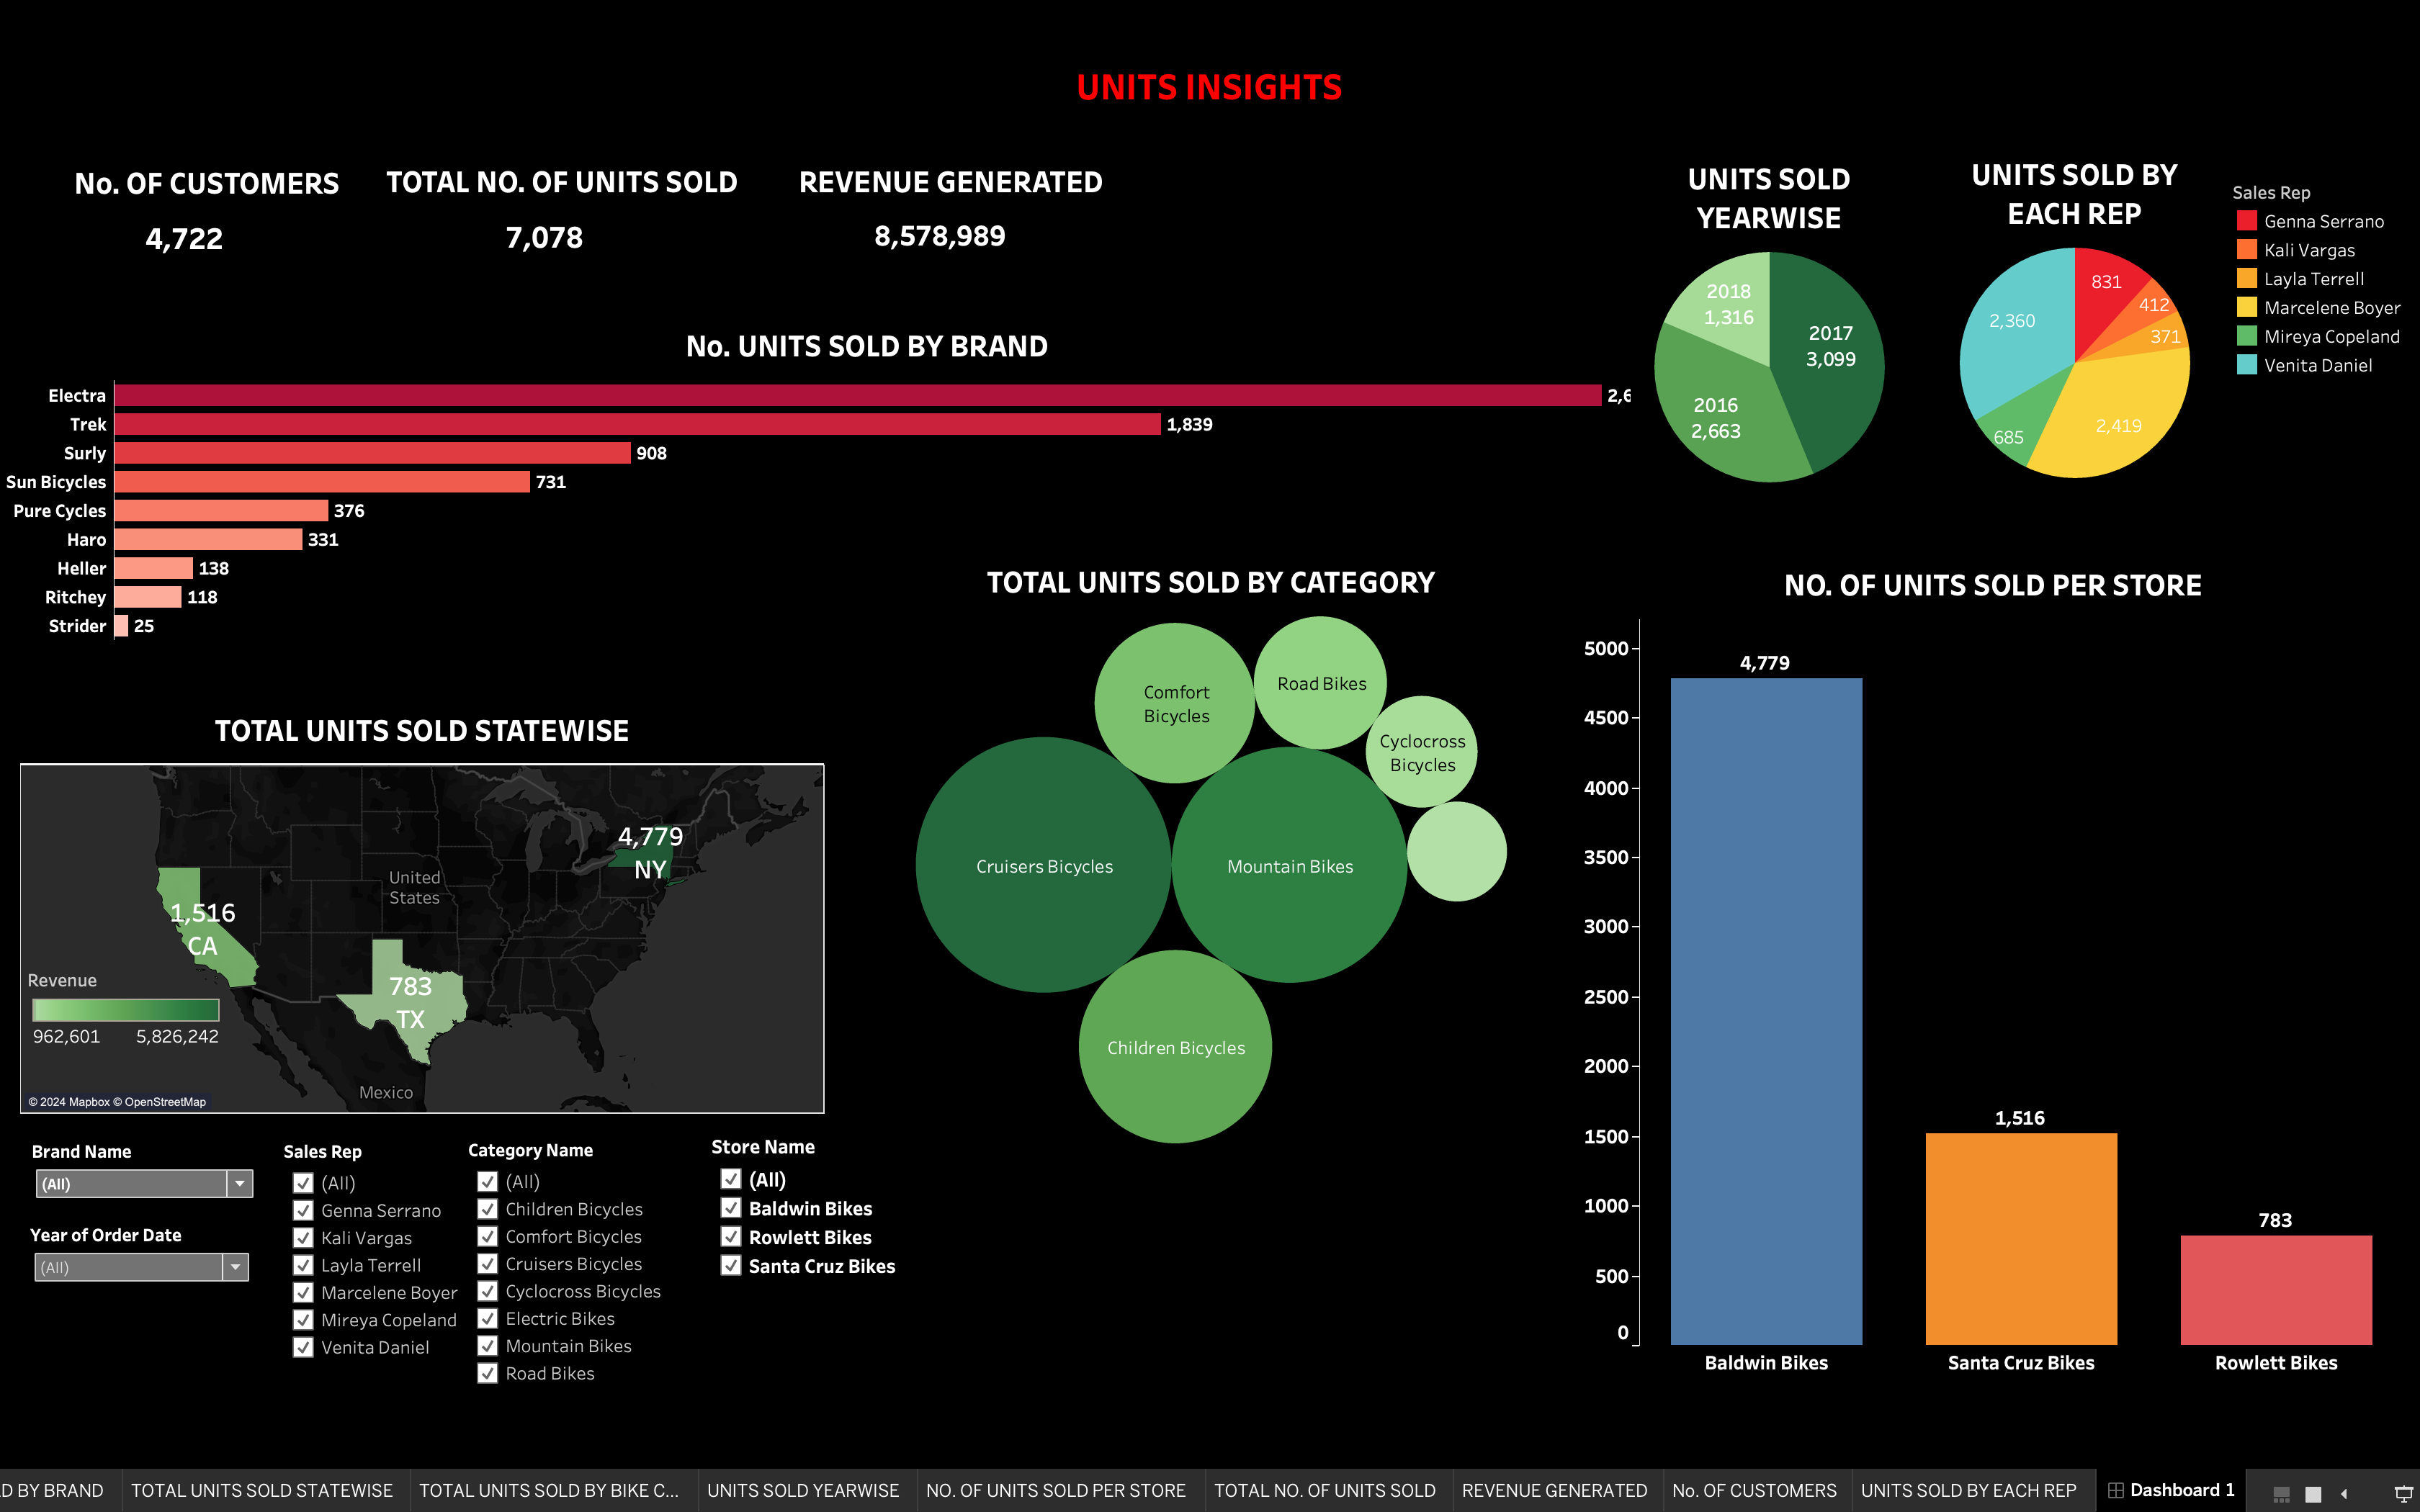

This screenshot's page, from the dashboard's own definition file:
{"tool":"tableau","page":{"name":"Dashboard 1","canvas":[1000,1000],"units":"permille","ordinal":0},"visuals":[{"type":"title","box":[5.5,9.5,989.1,44.6]},{"type":"worksheet","title":"TOTAL NO. OF UNITS SOLD","mark":"Automatic","box":[98.3,81.5,257.5,116.1]},{"type":"worksheet","title":"REVENUE GENERATED","mark":"Automatic","box":[307.2,81.5,176.7,98.2]},{"type":"worksheet","title":"No. OF CUSTOMERS","mark":"Automatic","box":[5.3,82.6,185.5,111.6]},{"type":"legend","title":"UNITS SOLD BY EACH REP","param":"[federated.16wic6a0i7u00k150q4jo18tdcgt].[none:sales_rep:nk]","box":[922.8,99.3,81.9,170.8]},{"type":"worksheet","title":"TOTAL UNITS SOLD BY BIKE CATEGORY","mark":"Circle","box":[353.4,370.5,294.3,521.2]},{"type":"worksheet","title":"NO. OF UNITS SOLD PER STORE","mark":"Bar","rows":["Total_Units"],"cols":["store_name"],"box":[654.2,372.8,339.4,610.5]},{"type":"worksheet","title":"TOTAL UNITS SOLD STATEWISE","mark":"Automatic","box":[8.2,477.7,332.9,296.9]},{"type":"legend","title":"TOTAL UNITS SOLD STATEWISE","param":"[federated.16wic6a0i7u00k150q4jo18tdcgt].[sum:Revenue:qk]","box":[11.1,668.5,81.9,84.8]},{"type":"filter","title":"NO. OF UNITS SOLD PER STORE","param":"[federated.16wic6a0i7u00k150q4jo18tdcgt].[none:store_name:nk]","box":[294.3,789.1,93.6,132.8]},{"type":"filter","title":"TOTAL UNITS SOLD BY BIKE CATEGORY","param":"[federated.16wic6a0i7u00k150q4jo18tdcgt].[none:category_name:nk]","box":[193.7,791.3,93.6,196.4]},{"type":"filter","title":"No. UNITS SOLD BY BRAND","param":"[federated.16wic6a0i7u00k150q4jo18tdcgt].[none:brand_name:nk]","box":[12.9,792.4,93.6,104.9]},{"type":"filter","title":"UNITS SOLD BY EACH REP","param":"[federated.16wic6a0i7u00k150q4jo18tdcgt].[none:sales_rep:nk]","box":[117,792.4,93.6,187.5]},{"type":"filter","title":"UNITS SOLD YEARWISE","param":"[federated.16wic6a0i7u00k150q4jo18tdcgt].[tyr:order_date:ok]","box":[12.3,852.7,92.5,119.4]}]}

Visuals, with their boxes on the dashboard's canvas, which has no fixed pixel size, in thousandths of its width and height (x1, y1, x2, y2). These are canvas units, not pixel positions in the 2420x1512 screenshot, which may show the page scaled, cropped or inside an application window:
title: [6, 10, 995, 54]
"TOTAL NO. OF UNITS SOLD" worksheet: [98, 82, 356, 198]
"REVENUE GENERATED" worksheet: [307, 82, 484, 180]
"No. OF CUSTOMERS" worksheet: [5, 83, 191, 194]
"UNITS SOLD BY EACH REP" legend: [923, 99, 1005, 270]
"TOTAL UNITS SOLD BY BIKE CATEGORY" worksheet (Circle marks): [353, 370, 648, 892]
"NO. OF UNITS SOLD PER STORE" worksheet (Bar marks): [654, 373, 994, 983]
"TOTAL UNITS SOLD STATEWISE" worksheet: [8, 478, 341, 775]
"TOTAL UNITS SOLD STATEWISE" legend: [11, 668, 93, 753]
"NO. OF UNITS SOLD PER STORE" filter: [294, 789, 388, 922]
"TOTAL UNITS SOLD BY BIKE CATEGORY" filter: [194, 791, 287, 988]
"No. UNITS SOLD BY BRAND" filter: [13, 792, 106, 897]
"UNITS SOLD BY EACH REP" filter: [117, 792, 211, 980]
"UNITS SOLD YEARWISE" filter: [12, 853, 105, 972]
